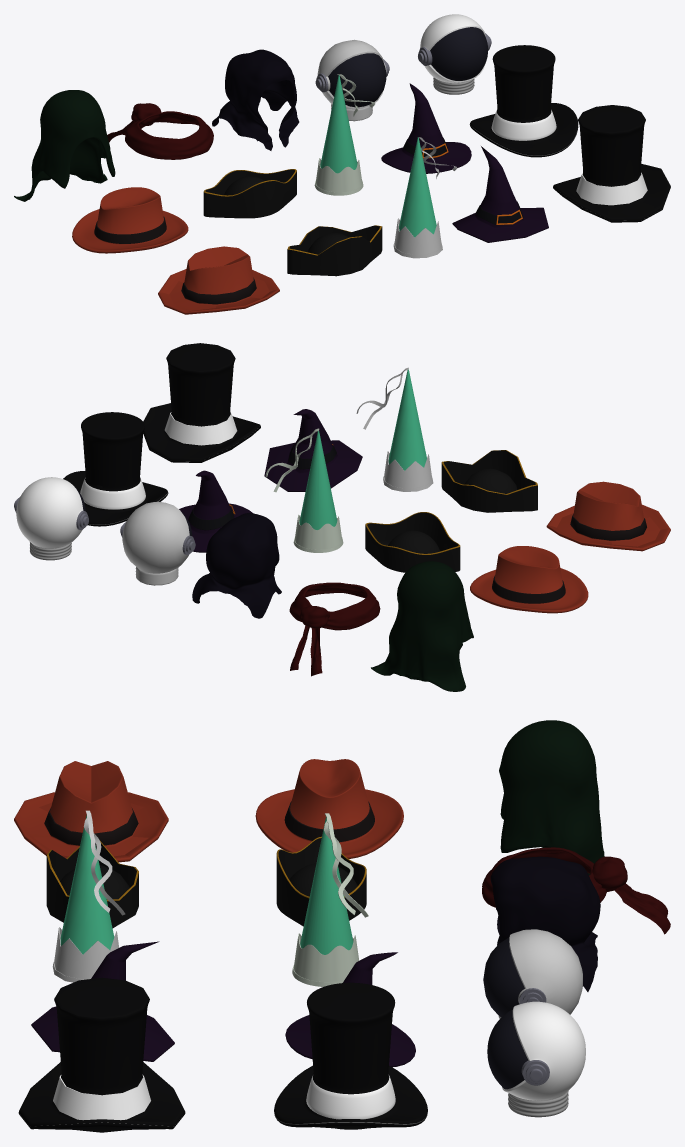
File: Hats.fbx
3 renders of one model, top to bottom at view 1: azimuth 30°, elevation 25°; view 2: azimuth 150°, elevation 25°; view 3: azimuth 270°, elevation 25°, orthographic. The views are drawn at different scales.
Visible parts, largest first — view 1: TopHat_low, TopHat_high, Cloak_low, Cowboy_low, Cowboy_high, Hood_low, Astronaut_high, Pirate_low, Astronaut_low, Pirate_high, Witch_low, Princess_low (+3 smaller); view 2: TopHat_low, Cloak_low, TopHat_high, Hood_low, Cowboy_low, Cowboy_high, Pirate_low, Astronaut_low, Astronaut_high, Pirate_high, Witch_low, Princess_low (+3 smaller); view 3: TopHat_low, TopHat_high, Cloak_low, Cowboy_low, Cowboy_high, Astronaut_high, Hood_low, Princess_high, Astronaut_low, Princess_low, Pirate_high, Pirate_low (+3 smaller).
Part boxes in pixels (x1,y1,x2,y2): TopHat_low: (553,105,670,222); TopHat_high: (469,45,578,157); Cloak_low: (14,90,115,201); Cowboy_low: (158,246,279,314); Cowboy_high: (72,187,188,253); Hood_low: (212,49,299,150); Astronaut_high: (418,14,491,94); Pirate_low: (287,225,382,276); Astronaut_low: (315,39,389,121); Pirate_high: (203,169,296,218); Witch_low: (452,146,548,242); Princess_low: (393,137,456,258); TopHat_low: (143,343,260,462); Cloak_low: (371,561,473,691); TopHat_high: (63,412,168,526); Hood_low: (192,513,281,618); Cowboy_low: (546,481,670,551); Cowboy_high: (470,546,588,613); Pirate_low: (441,450,537,512); Astronaut_low: (120,501,195,585); Astronaut_high: (14,477,88,560); Pirate_high: (365,512,460,572); Witch_low: (264,409,362,491); Princess_low: (356,367,433,491); TopHat_low: (18,977,185,1132); TopHat_high: (274,982,427,1129); Cloak_low: (499,720,604,875); Cowboy_low: (14,761,168,862); Cowboy_high: (255,759,403,858); Astronaut_high: (487,1001,585,1117); Hood_low: (490,856,600,991); Princess_high: (292,813,368,986); Astronaut_low: (483,929,582,1018); Princess_low: (52,810,125,982); Pirate_high: (276,836,366,926); Pirate_low: (46,841,138,928).
Bounding box in the file's own units: 1003 × 260 × 792.
